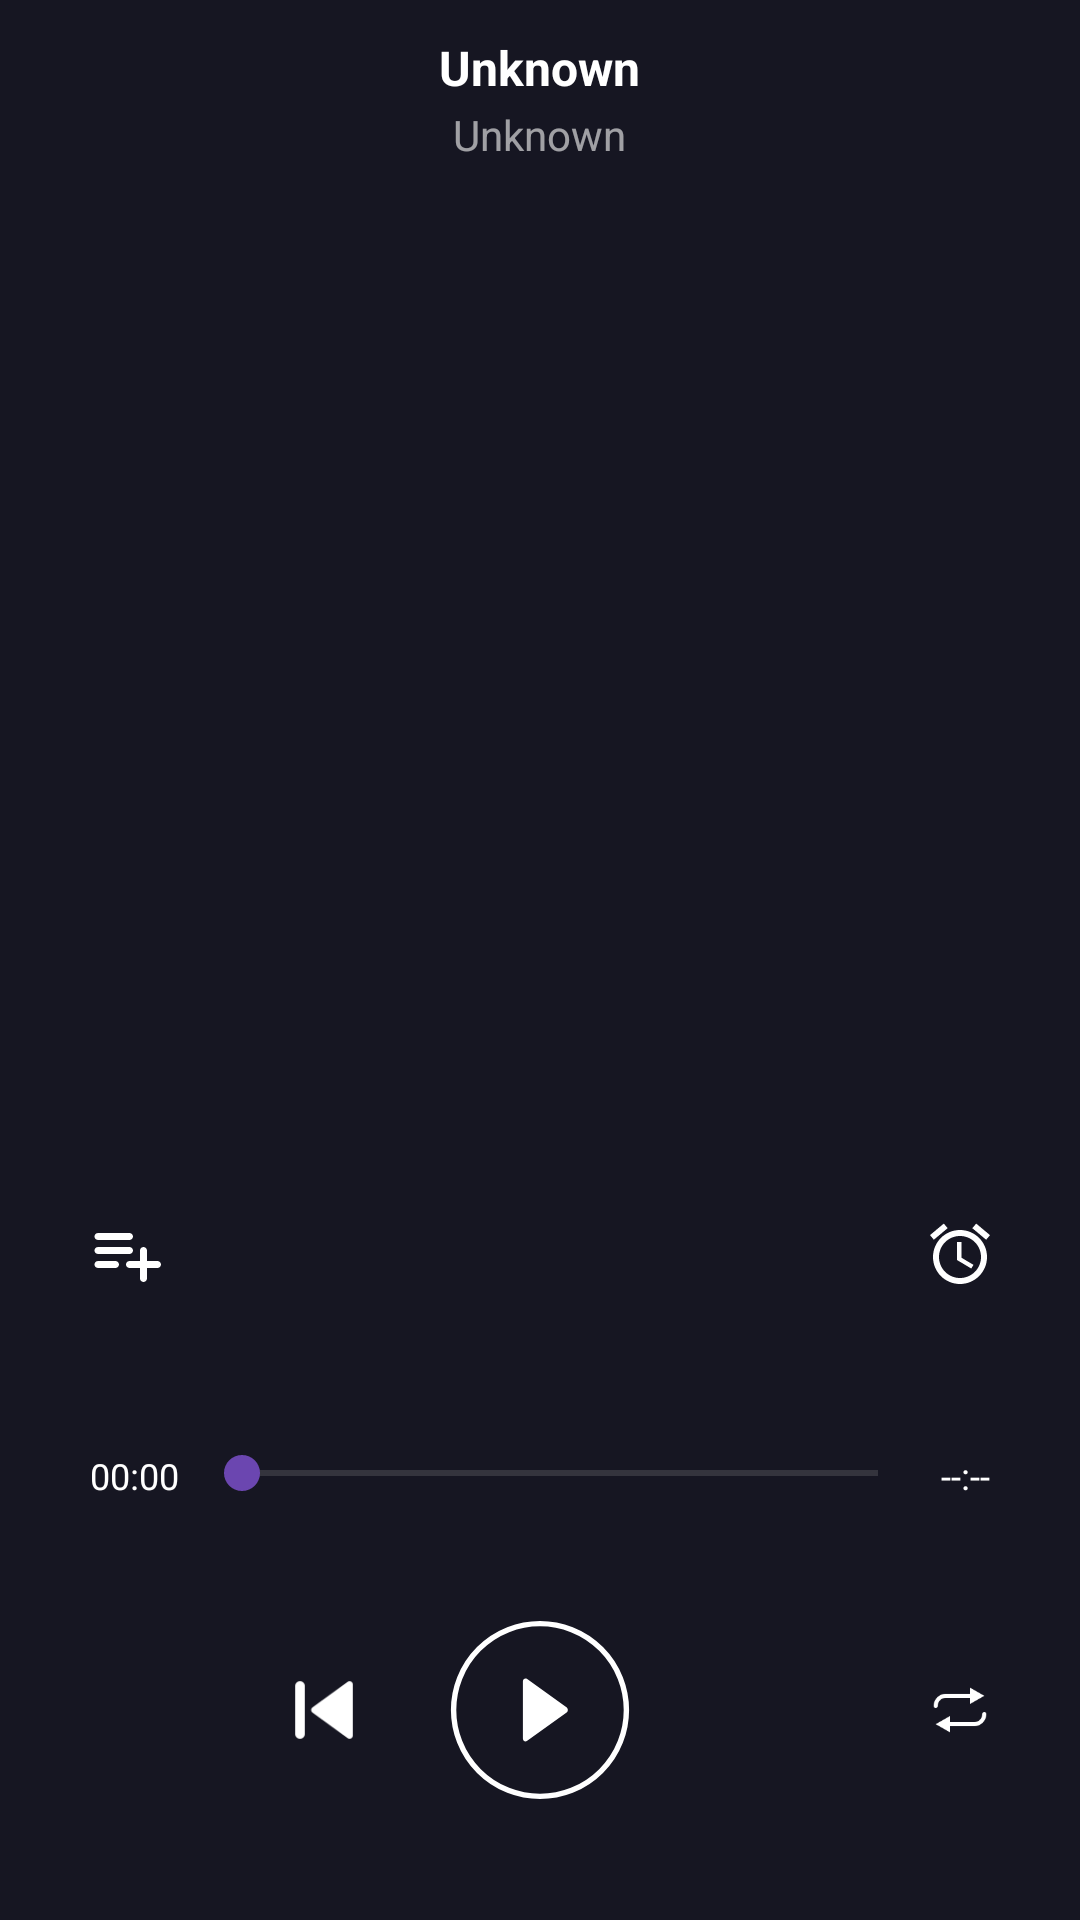

Icons on this 1080w x 1920h Android screen, each with the point to tap as (x,y):
play: (540,1710)
playlist add: (127,1257)
previous: (324,1710)
repeat off: (960,1710)
timer: (960,1253)
